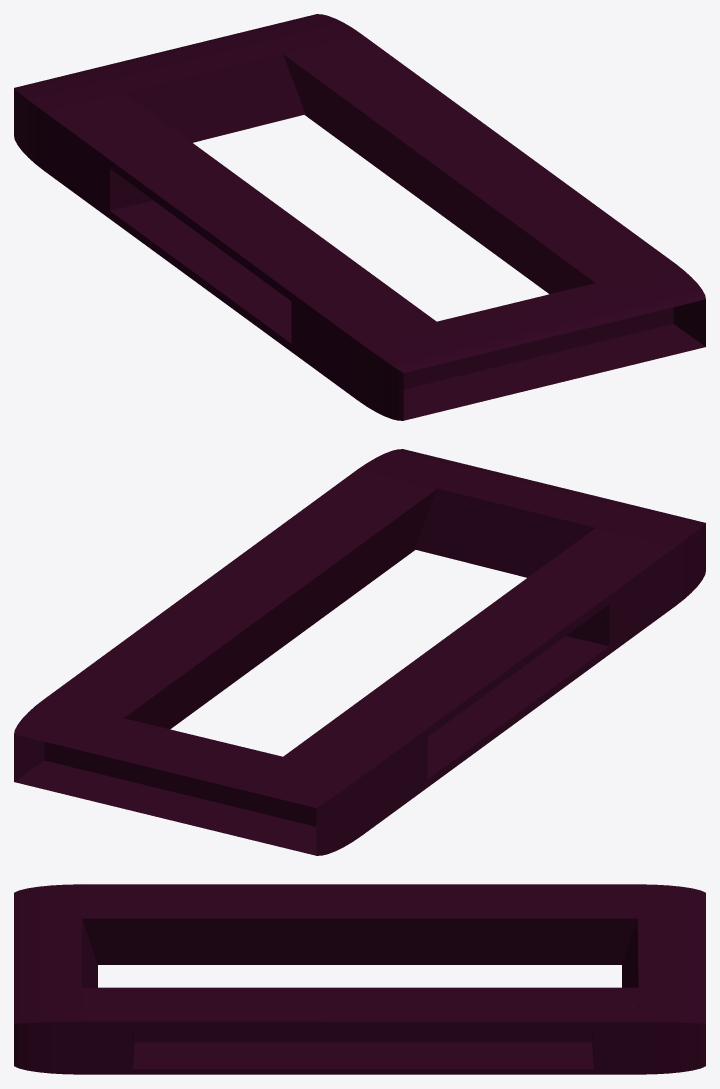
The model's file is jewleryisland3.fbx.
3 views of the same model, one above another, from view 1: azimuth 30°, elevation 25°; view 2: azimuth 150°, elevation 25°; view 3: azimuth 270°, elevation 25° (orthographic). The views are drawn at different scales.
Parts seen in each view (by area): view 1: Cube; view 2: Cube; view 3: Cube.
Boxes of the visible parts, left/top/right/bottom form: Cube: left=14, top=14, right=705, bottom=420; Cube: left=14, top=449, right=705, bottom=855; Cube: left=14, top=884, right=705, bottom=1074.
Size of the model in its own units: 1124 by 201 by 2387.
